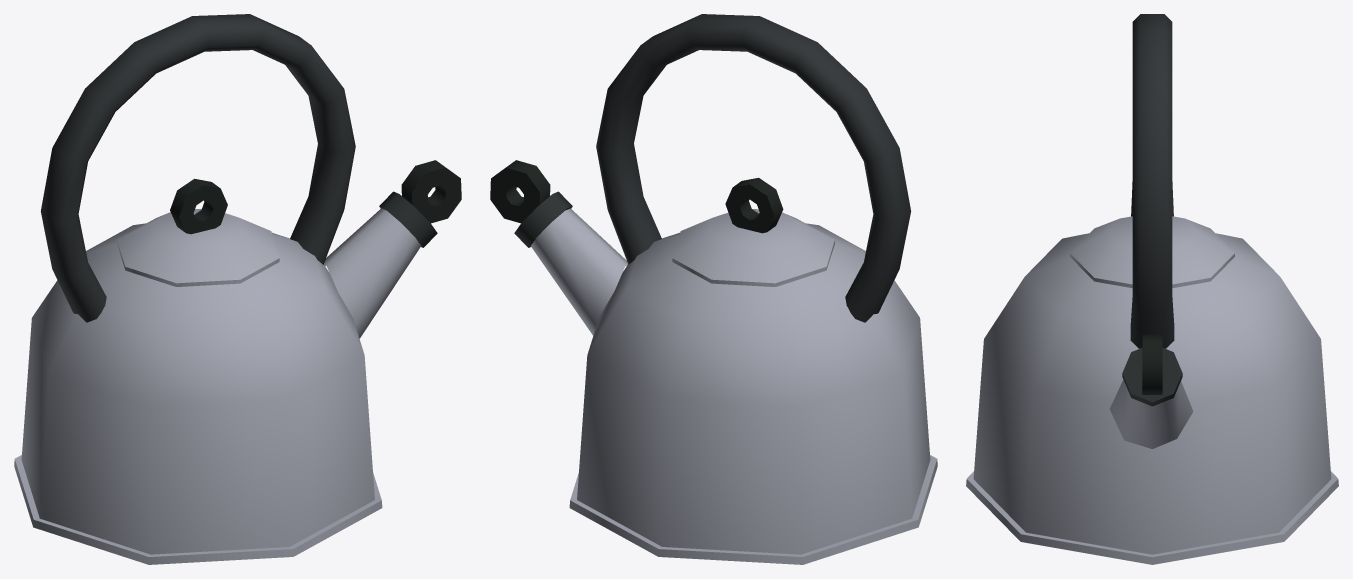
Rendered from vattenkokare.glb.
3 renders of one model, left to right at view 1: azimuth 30°, elevation 25°; view 2: azimuth 150°, elevation 25°; view 3: azimuth 270°, elevation 25°, orthographic. The views are drawn at different scales.
Visible parts, largest first — view 1: misc_kettle_Cylinder.017, misc_kettle_cover_Cylinder.018, misc_kettle_nozzle_Cylinder.019; view 2: misc_kettle_Cylinder.017, misc_kettle_cover_Cylinder.018, misc_kettle_nozzle_Cylinder.019; view 3: misc_kettle_Cylinder.017, misc_kettle_cover_Cylinder.018, misc_kettle_nozzle_Cylinder.019.
Boxes of the visible parts, <box> form: misc_kettle_Cylinder.017: <box>14,14,420,564</box>; misc_kettle_cover_Cylinder.018: <box>117,178,279,286</box>; misc_kettle_nozzle_Cylinder.019: <box>379,160,461,247</box>; misc_kettle_Cylinder.017: <box>531,14,937,564</box>; misc_kettle_cover_Cylinder.018: <box>672,177,834,286</box>; misc_kettle_nozzle_Cylinder.019: <box>490,160,572,247</box>; misc_kettle_Cylinder.017: <box>966,14,1338,564</box>; misc_kettle_cover_Cylinder.018: <box>1070,216,1234,288</box>; misc_kettle_nozzle_Cylinder.019: <box>1122,334,1182,406</box>.
Bounding box in the file's own units: 6.02 × 6.34 × 4.69.
1 material, 1 textured.
